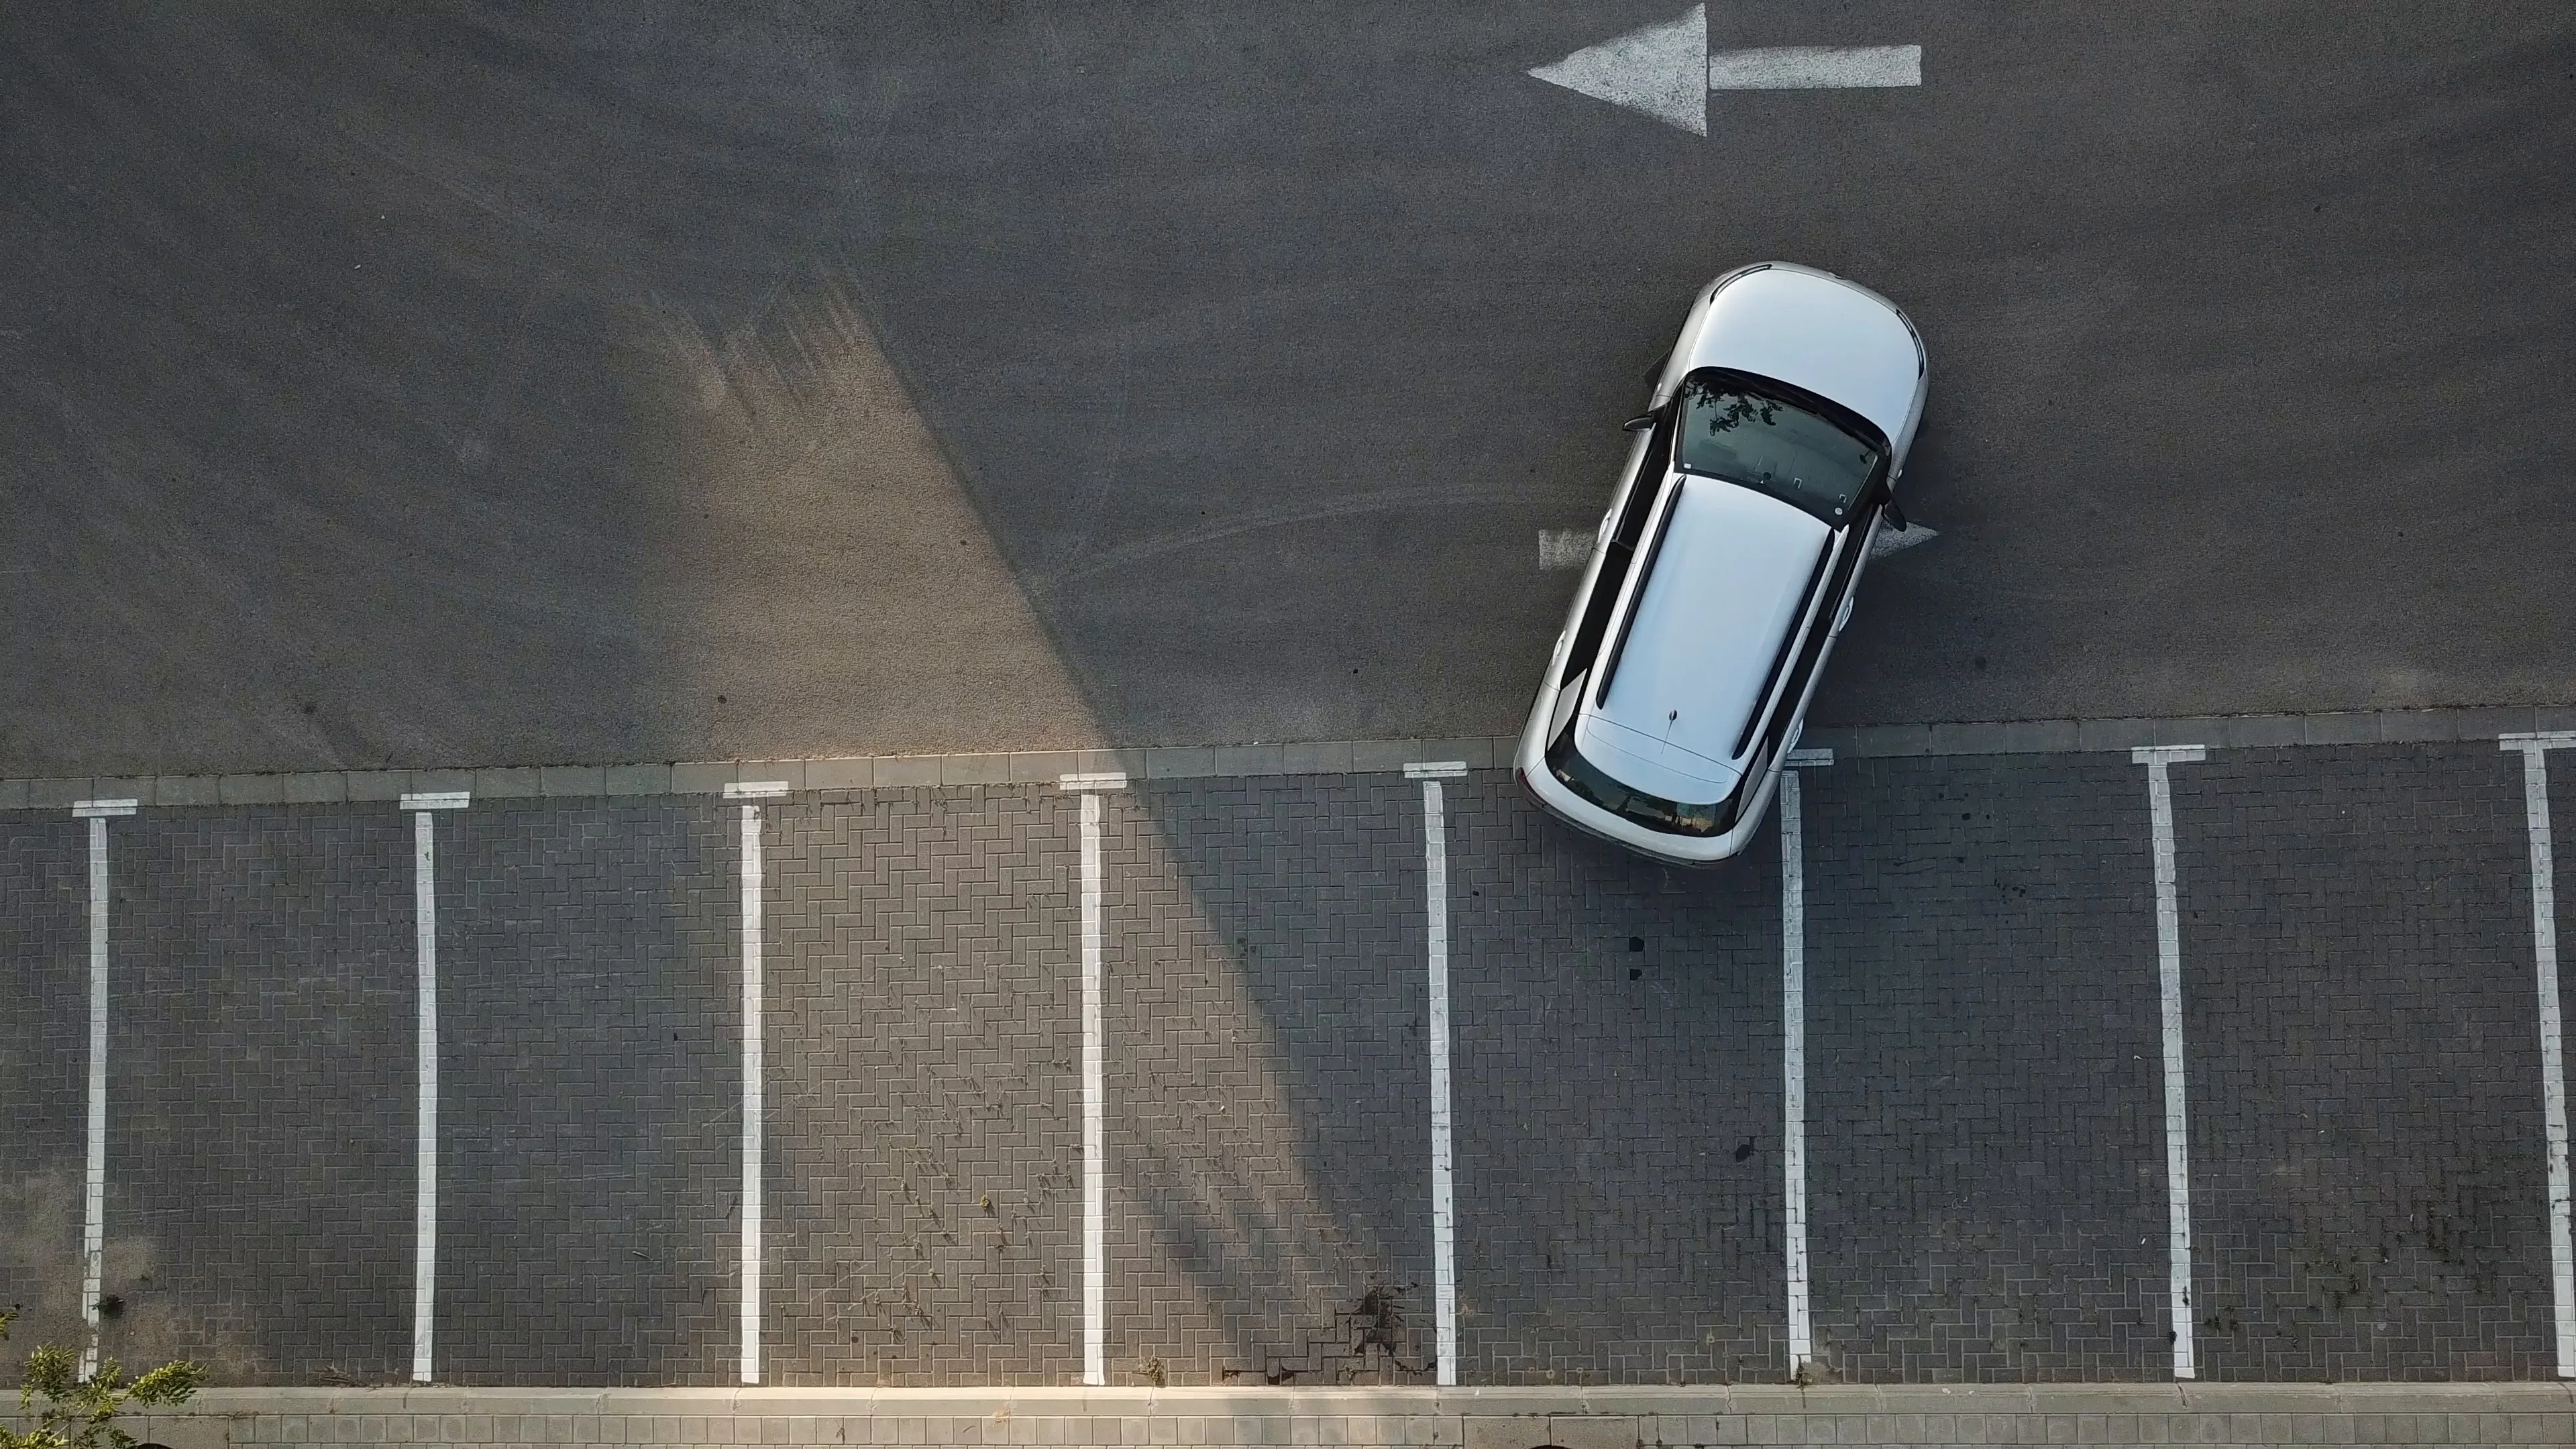Car: (1491, 248, 1941, 874)
LaneMark: (2153, 763, 2204, 1389), (2532, 750, 2576, 1376), (74, 819, 117, 1382), (741, 801, 770, 1392), (1079, 791, 1104, 1382), (414, 812, 439, 1387), (1790, 771, 1810, 1378), (1435, 777, 1453, 1398)
